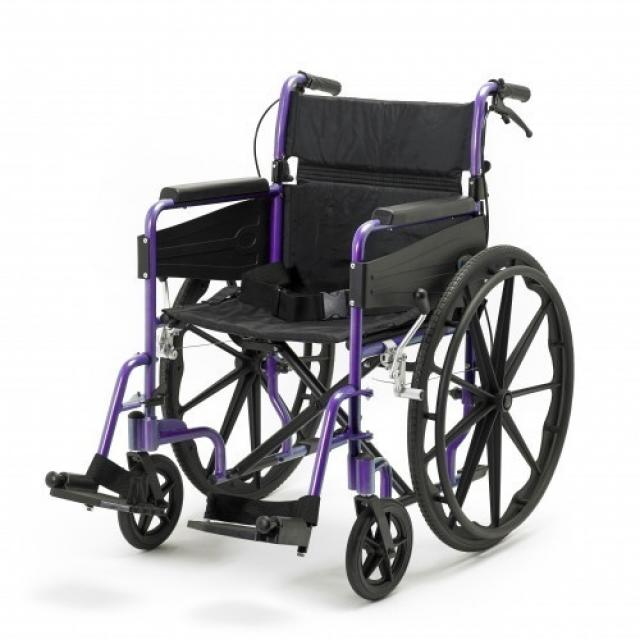wheelchair: (37, 51, 595, 609)
